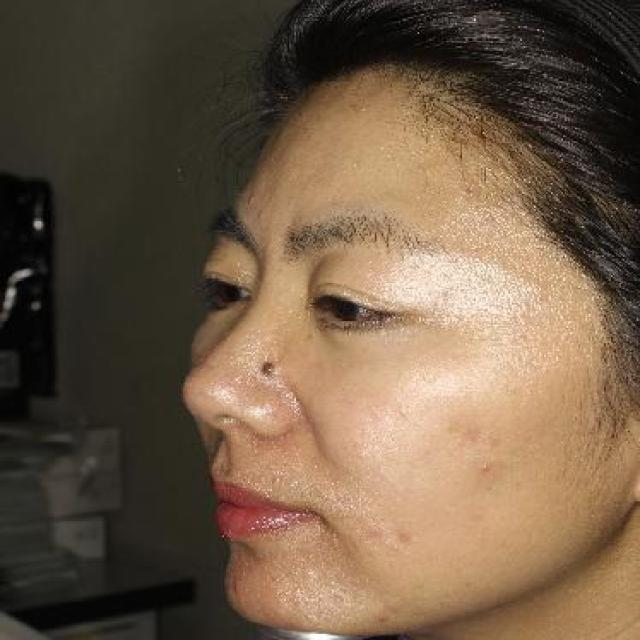dark spot: (390, 523, 419, 552), (358, 522, 388, 546), (460, 422, 488, 446)
pustules: (476, 461, 496, 477)
